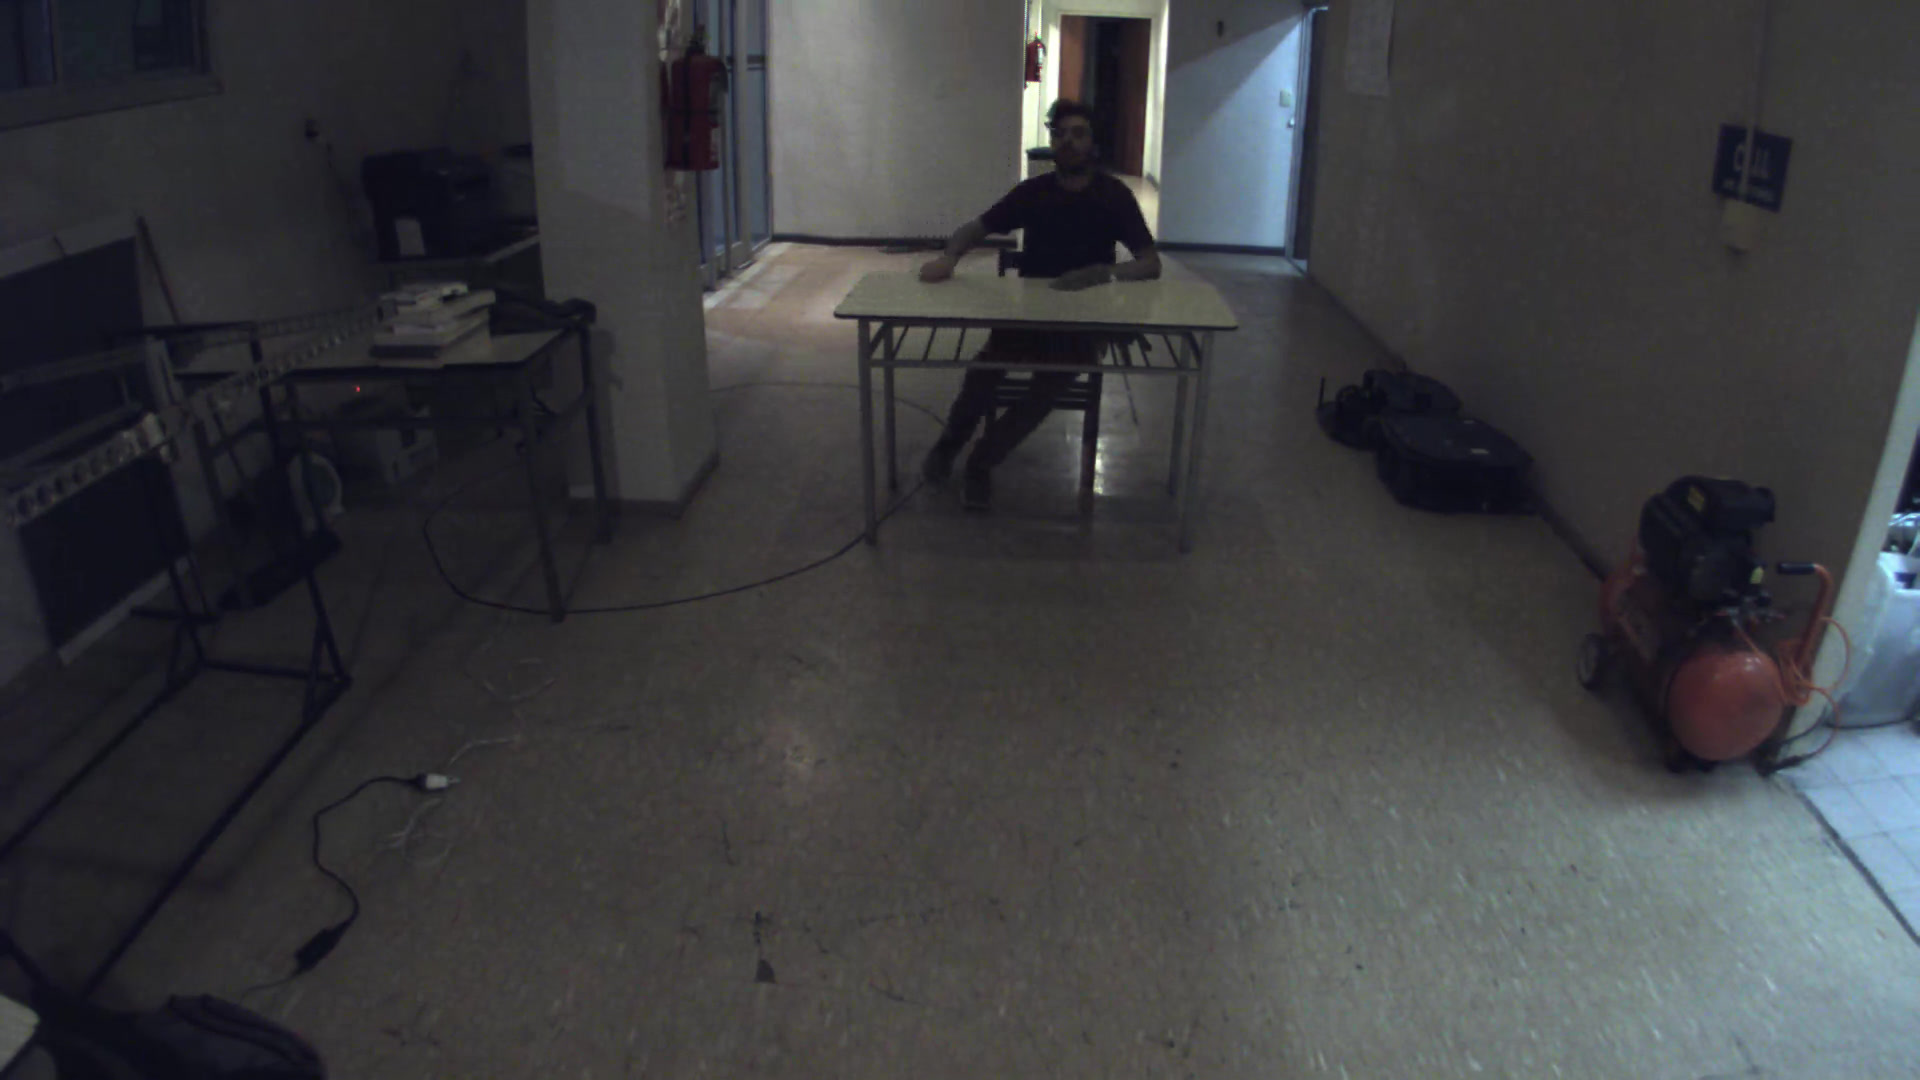hand: (1042, 255, 1106, 306), (906, 243, 965, 287)
